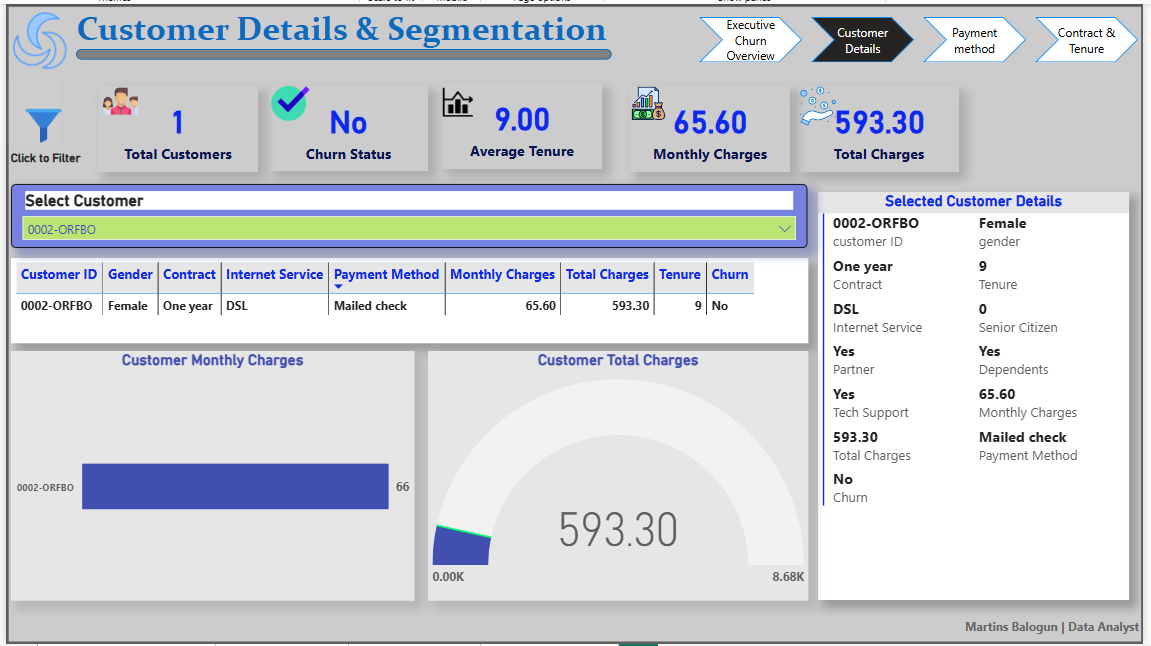

The dashboard page shown, as its layout file describes it:
{"tool":"powerbi","page":{"name":"Customer Details","canvas":[1280,720],"ordinal":1},"visuals":[{"type":"group","id":"g1","title":"Title and logo","box":[0,0,774,79.9],"z":0},{"type":"image","title":"filter Image","box":[6.6,107,70.9,58.2],"z":0,"group":"g2"},{"type":"actionButton","title":"Full page close","box":[0,0,1280,720.1],"z":1000},{"type":"textbox","box":[74.8,0,699.5,62.7],"z":1000,"group":"g3"},{"type":"actionButton","box":[1.1,84.3,60,75.4],"z":1000,"group":"g2"},{"type":"card","fields":{"Values":["WA_Fn-UseC_-Telco-Customer-Churn.Total Customers"]},"box":[103.5,92.3,180,96.8],"z":2000},{"type":"card","fields":{"Values":["WA_Fn-UseC_-Telco-Customer-Churn.Average Tenure"]},"box":[490,89.2,180,96.9],"z":3000},{"type":"image","box":[0,2.5,76.5,77.8],"z":4000,"group":"g1"},{"type":"image","box":[103.7,83.2,52.4,52.4],"z":4000},{"type":"image","box":[691.7,87.9,62.1,47.8],"z":5000},{"type":"card","fields":{"Values":["Sum(Fact Customer Churn.MonthlyCharges)"]},"box":[701.8,92.3,180,96.8],"z":6000},{"type":"shape","box":[79.4,50.1,602.7,12],"z":7000,"group":"g3"},{"type":"image","box":[471.7,88.6,74.1,43.3],"z":7000},{"type":"actionButton","title":"Click to Filter","box":[0,165.2,88.9,23.9],"z":8000},{"type":"card","fields":{"Values":["Min(Fact Customer Churn.Churn)"]},"box":[296.2,92.3,178.9,95.7],"z":9000},{"type":"card","fields":{"Values":["Sum(Fact Customer Churn.TotalCharges)"]},"box":[892,92.3,180,96.8],"z":10000},{"type":"textbox","title":"Label","box":[979.7,685.8,299.6,34.2],"z":11000},{"type":"tableEx","fields":{"Values":["Fact Customer Churn.customerID","Fact Customer Churn.gender","Fact Customer Churn.Contract","Fact Customer Churn.InternetService","Fact Customer Churn.PaymentMethod","Fact Customer Churn.MonthlyCharges","Fact Customer Churn.TotalCharges","Fact Customer Churn.tenure","Fact Customer Churn.Churn"]},"box":[5.2,285.7,897.3,95.7],"z":12000},{"type":"multiRowCard","title":"Selected Customer Details","fields":{"Values":["Fact Customer Churn.customerID","Fact Customer Churn.gender","Fact Customer Churn.Contract","Fact Customer Churn.tenure","Fact Customer Churn.InternetService","Fact Customer Churn.SeniorCitizen","Fact Customer Churn.Partner","Fact Customer Churn.Dependents","Fact Customer Churn.TechSupport","Fact Customer Churn.MonthlyCharges","Fact Customer Churn.TotalCharges","Fact Customer Churn.PaymentMethod"]},"box":[913,211.5,349.9,458.8],"z":13000},{"type":"group","id":"g2","title":"Slicer Open","box":[1.1,84.3,76.3,80.9],"z":14000},{"type":"slicer","fields":{"Values":["Fact Customer Churn.customerID"]},"box":[6.2,202.4,896.1,71.6],"z":15000},{"type":"clusteredBarChart","title":"Customer Monthly Charges ","fields":{"Category":["Fact Customer Churn.customerID"],"Y":["Avg(Fact Customer Churn.MonthlyCharges)"]},"box":[5.2,390.5,453.8,280.6],"z":16000},{"type":"gauge","title":"Customer Total Charges ","fields":{"Y":["Sum(Fact Customer Churn.TotalCharges)"],"TargetValue":["Avg(Fact Customer Churn.TotalCharges)"],"MaxValue":["Measures Table.Max Total Charge"]},"box":[474.5,390.5,428,280.6],"z":17000},{"type":"pageNavigator","box":[780.1,14.8,495,51.8],"z":18000},{"type":"group","id":"g3","title":"Group 1","box":[74.8,0,699.5,62.7],"z":20000,"group":"g1"},{"type":"image","box":[283.5,83.2,68.6,57.4],"z":20000},{"type":"image","box":[882,84.4,63,60.8],"z":21000}]}

Visuals, with their boxes in screenshot pixels (x1, y1, x2, y2), scaled from the page's 1280x720 canvas onto the 1151x646 screenshot:
"Title and logo" group: [0, 0, 696, 72]
"filter Image" image: [6, 96, 70, 148]
"Full page close" actionButton: [0, 0, 1150, 645]
textbox: [67, 0, 696, 56]
actionButton: [1, 76, 55, 143]
card - WA_Fn-UseC_-Telco-Customer-Churn.Total Customers: [93, 83, 255, 170]
card - WA_Fn-UseC_-Telco-Customer-Churn.Average Tenure: [441, 80, 602, 167]
image: [0, 2, 69, 72]
image: [93, 75, 140, 122]
image: [622, 79, 678, 122]
card - Sum(Fact Customer Churn.MonthlyCharges): [631, 83, 793, 170]
shape: [71, 45, 613, 56]
image: [424, 79, 491, 118]
"Click to Filter" actionButton: [0, 148, 80, 170]
card - Min(Fact Customer Churn.Churn): [266, 83, 427, 169]
card - Sum(Fact Customer Churn.TotalCharges): [802, 83, 964, 170]
"Label" textbox: [881, 615, 1150, 645]
tableEx - Fact Customer Churn.customerID x Fact Customer Churn.gender: [5, 256, 812, 342]
"Selected Customer Details" multiRowCard: [821, 190, 1136, 601]
"Slicer Open" group: [1, 76, 70, 148]
slicer - Fact Customer Churn.customerID: [6, 182, 811, 246]
"Customer Monthly Charges " clusteredBarChart: [5, 350, 413, 602]
"Customer Total Charges " gauge: [427, 350, 812, 602]
pageNavigator: [701, 13, 1147, 60]
"Group 1" group: [67, 0, 696, 56]
image: [255, 75, 317, 126]
image: [793, 76, 850, 130]
